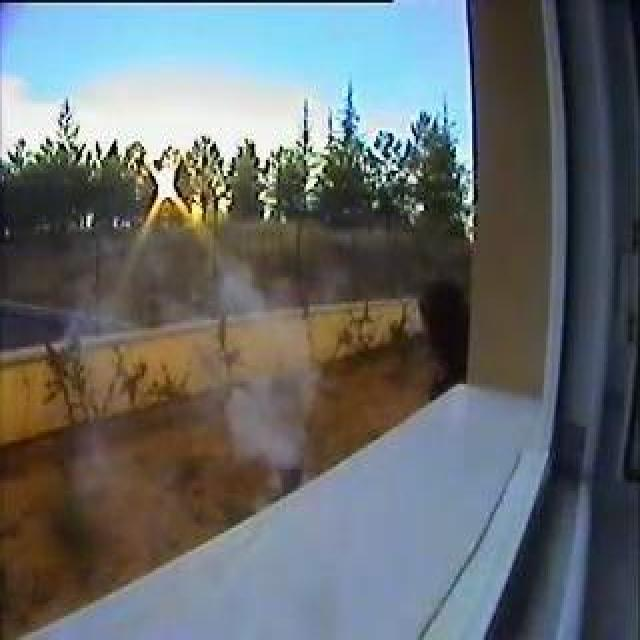Smoke: (215, 371, 301, 464)
